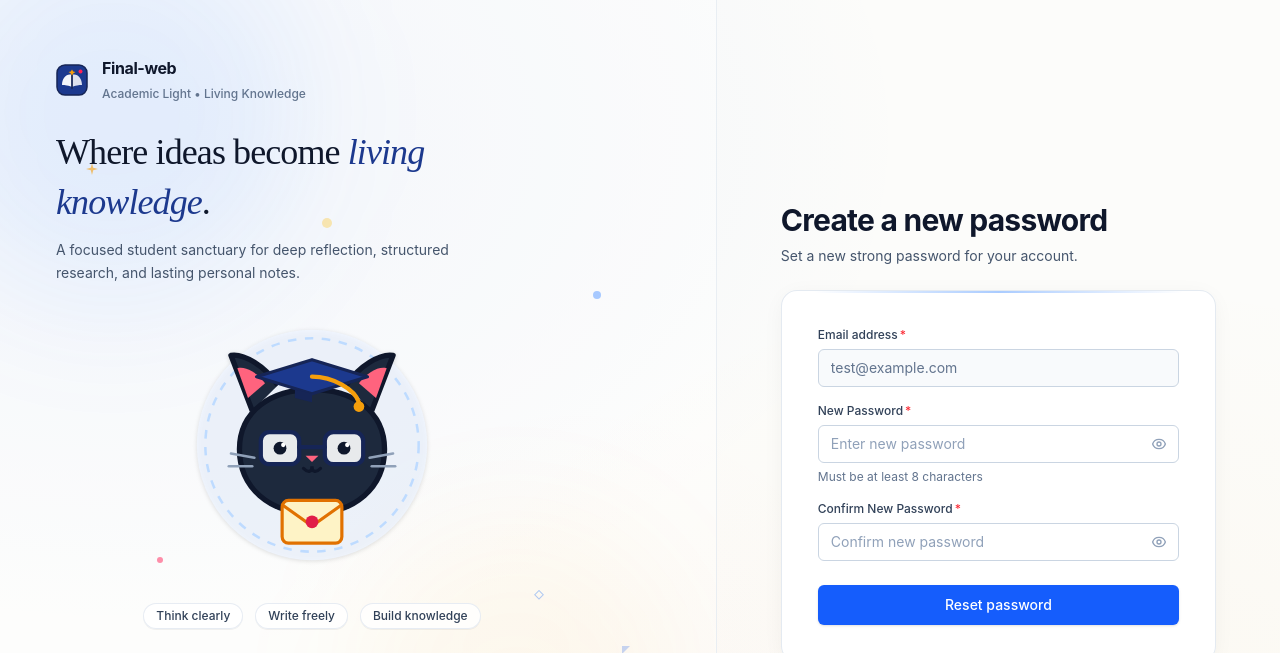
Scenario: Phase 2 M2 Account Lifecycle Frontend Tests › ResetPasswordPage › successfully resets password and offers manual login without auto-login
The image size is (1280, 653).
In the password field with placeholder "Enter new password": [998, 444] box [818,425,1179,463], type "BrandNew123!"
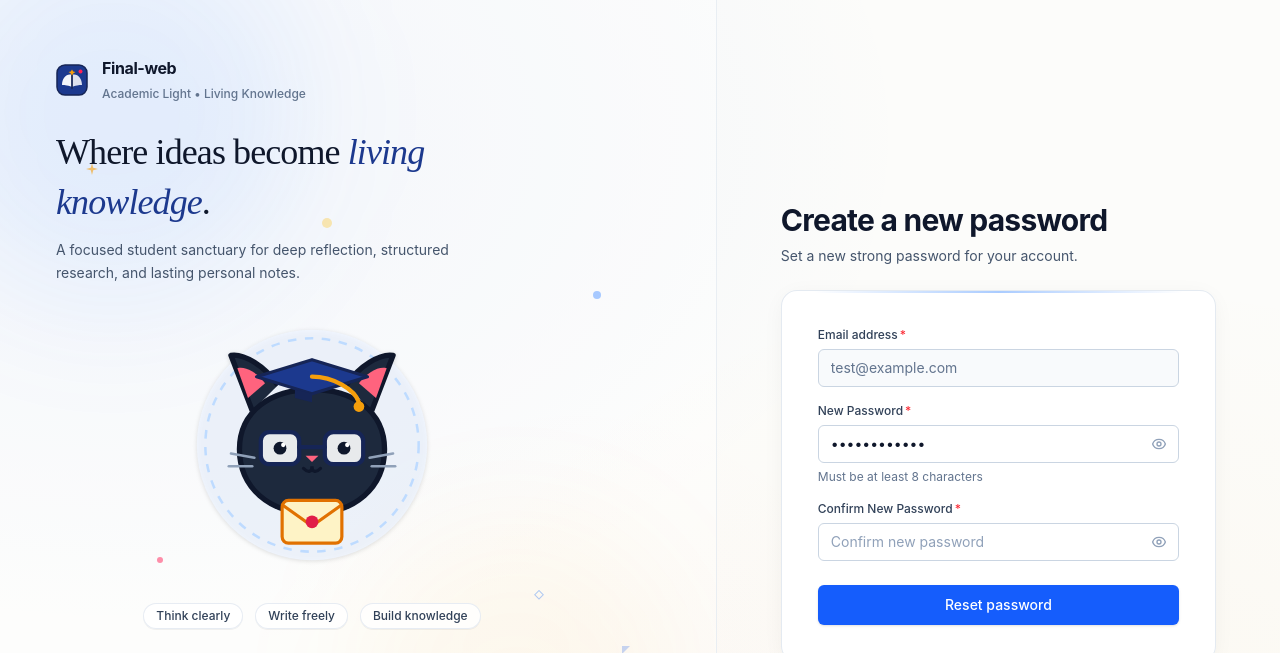
In the password field with placeholder "Confirm New Password": [998, 542] box [818,523,1179,561], type "BrandNew123!"
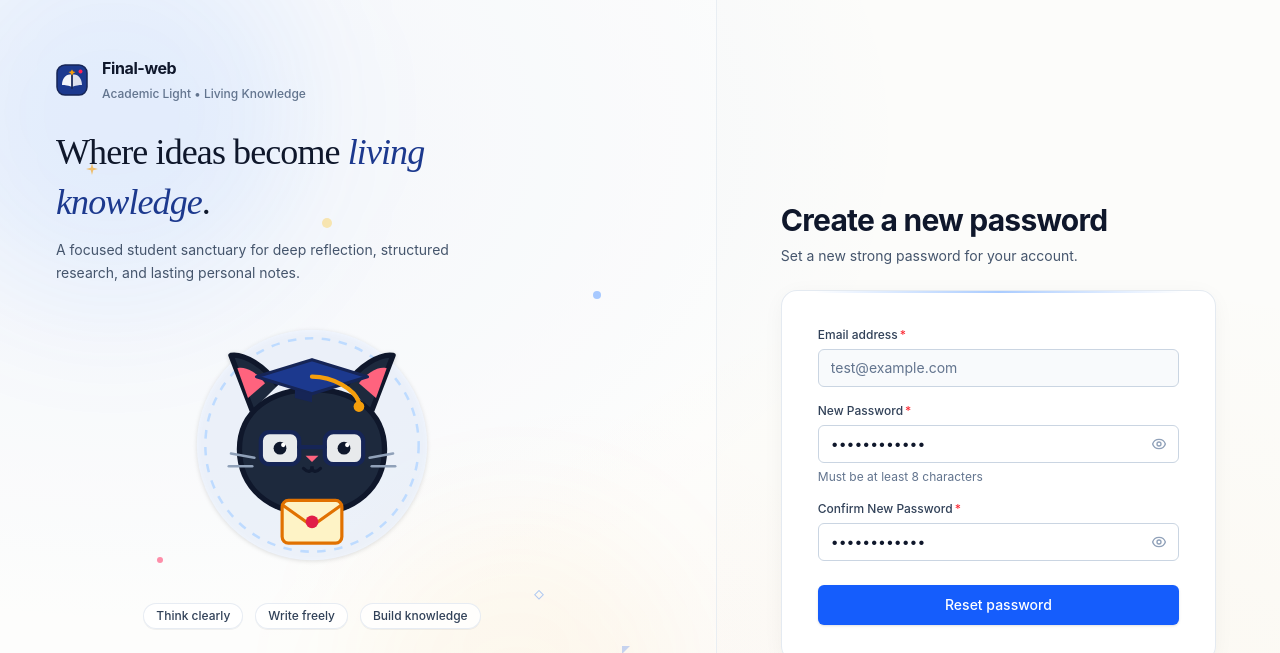
Click the button "Reset password": [998, 605] box [818,585,1179,625]
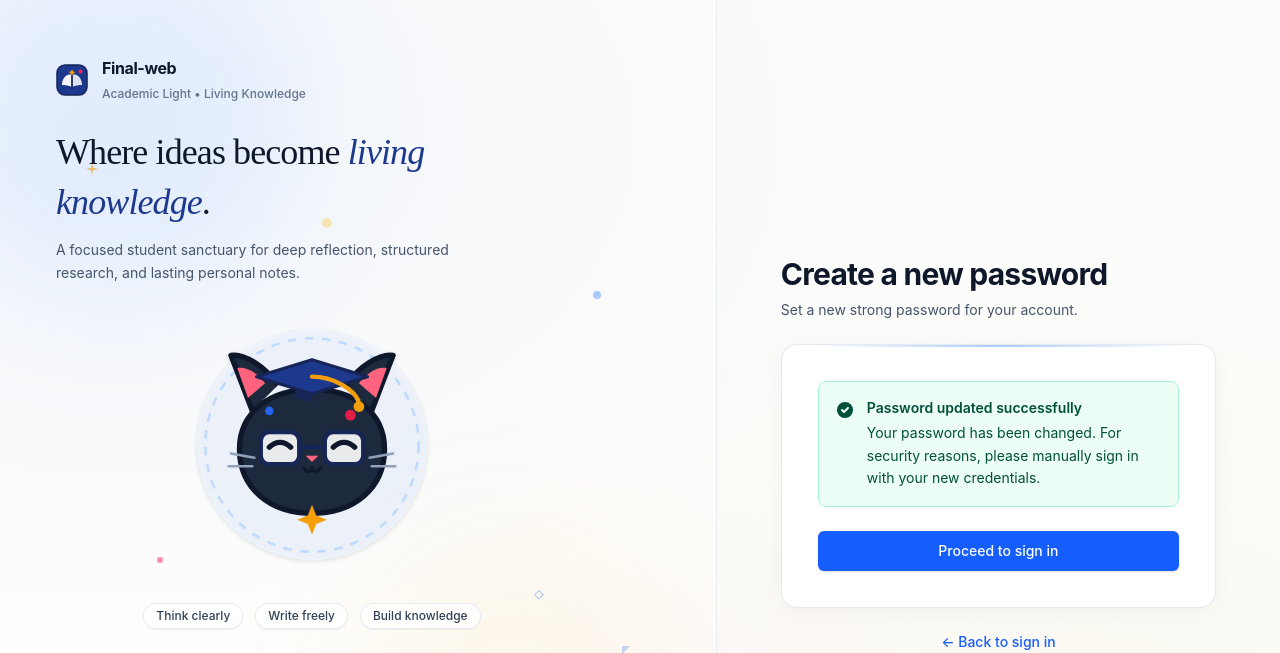
Now the element with test id "reset-password-success" is shown, box [818,381,1179,571]
Now the link "Proceed to sign in" is shown, box [818,531,1179,571]
